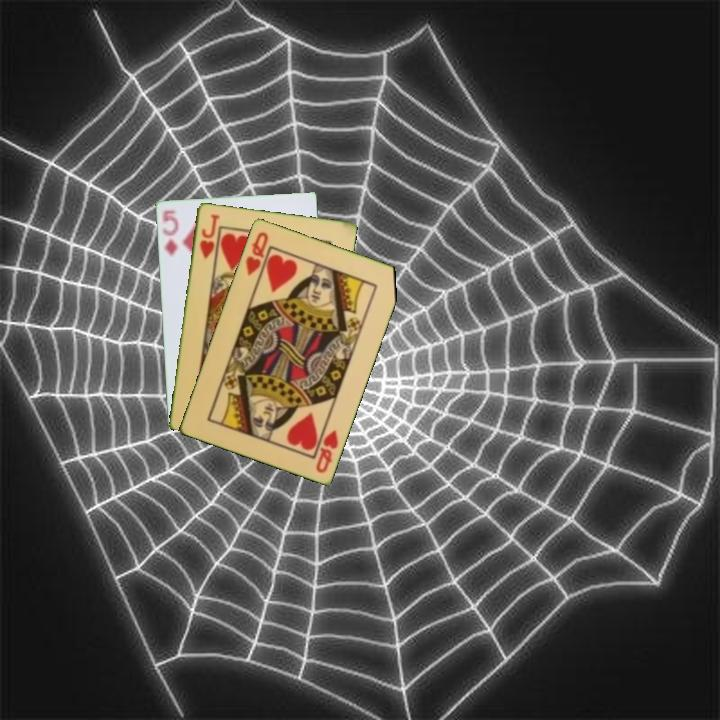5d: (158, 206, 181, 259)
Jh: (196, 210, 222, 261)
Qh: (312, 425, 341, 476), (242, 228, 271, 278)
